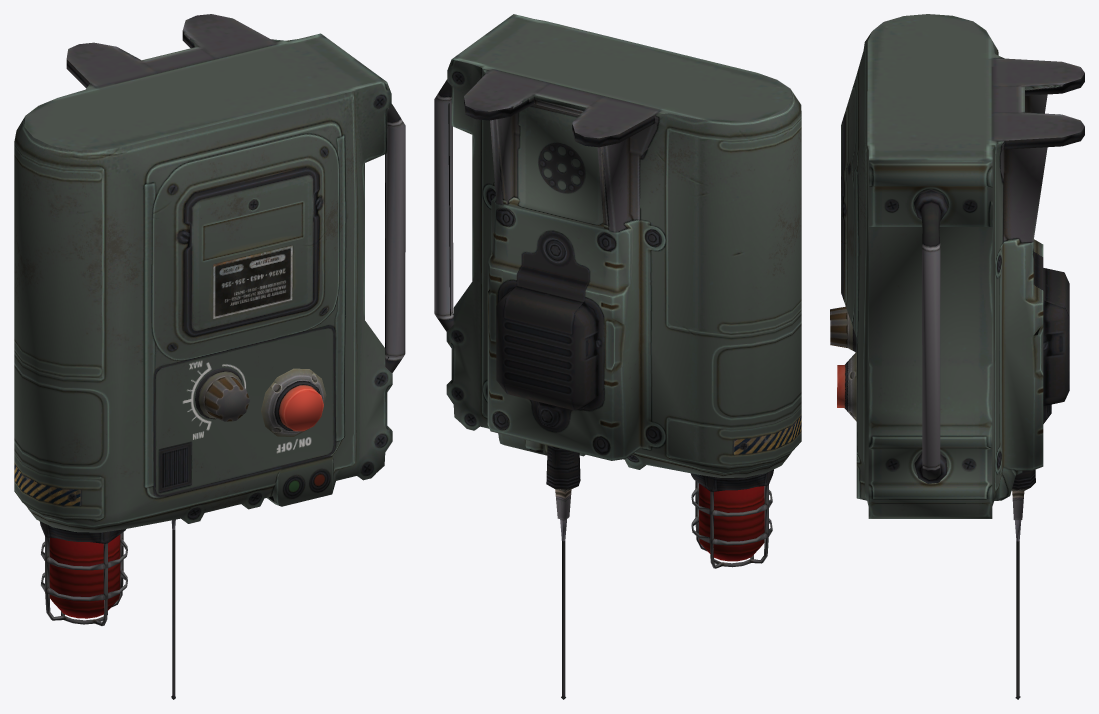
File: something.glb
3 views of the same model, side by side, from view 1: azimuth 30°, elevation 25°; view 2: azimuth 150°, elevation 25°; view 3: azimuth 270°, elevation 25° (orthographic). The views are drawn at different scales.
Visible parts, largest first — view 1: pulser; view 2: pulser; view 3: pulser.
Part boxes in pixels (x1,y1,x2,y2): pulser: [14, 14, 405, 699]; pulser: [434, 14, 801, 699]; pulser: [830, 14, 1084, 699].
Size of the model in its own units: 22.77 by 36.66 by 14.11.
1 material, 1 textured.
